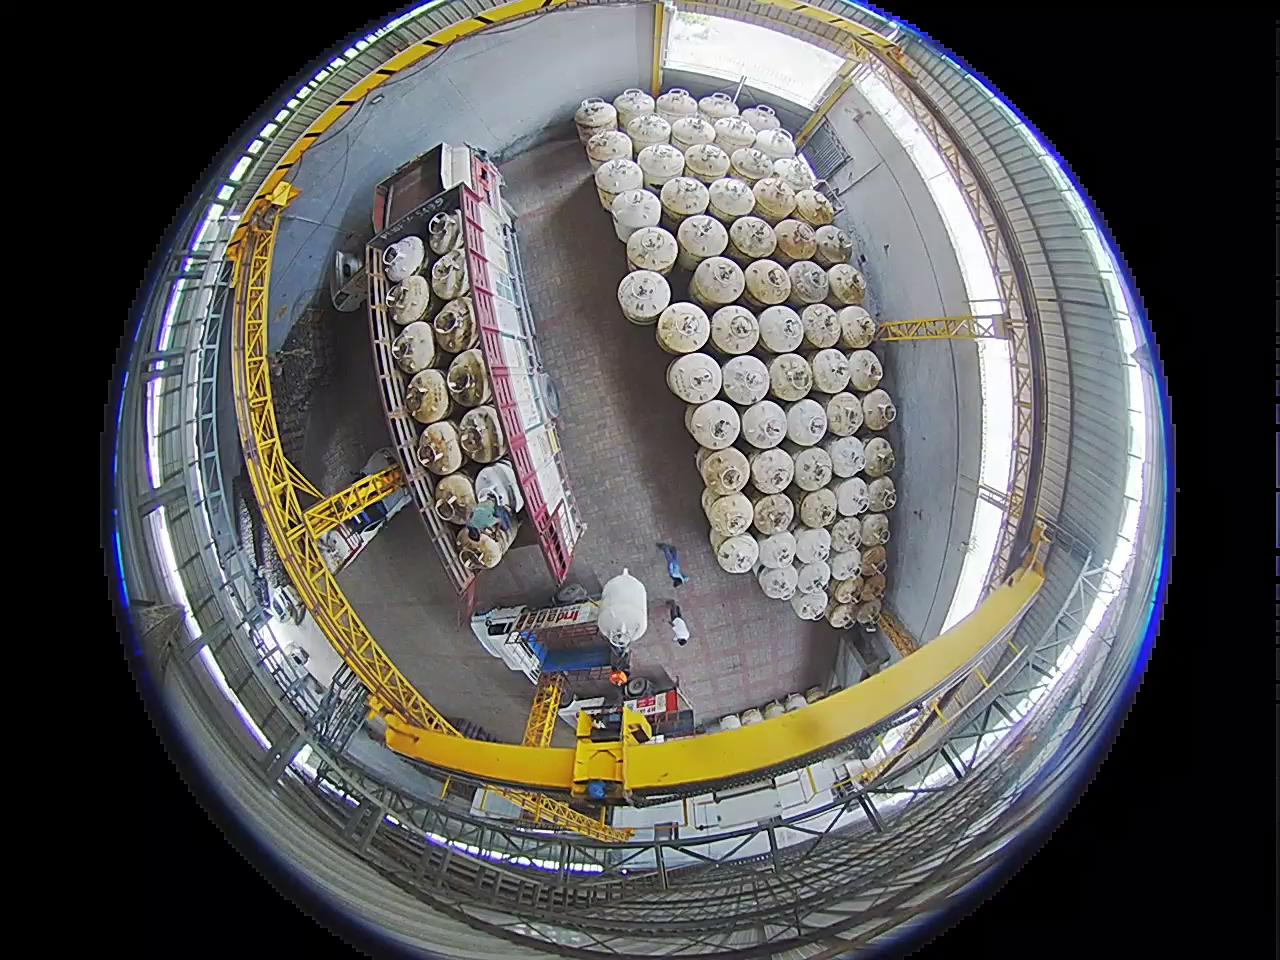cylinder: (598, 568, 647, 656), (626, 274, 678, 333), (666, 352, 722, 405), (656, 301, 710, 353), (687, 398, 741, 451), (463, 406, 501, 478), (710, 304, 762, 355), (691, 255, 745, 306), (719, 354, 770, 405), (404, 367, 452, 423), (677, 214, 729, 263), (612, 190, 660, 242), (416, 418, 464, 472), (741, 399, 790, 450), (698, 446, 750, 494), (433, 296, 478, 352), (757, 305, 806, 354), (391, 321, 436, 374), (385, 274, 430, 328), (626, 226, 675, 274), (744, 258, 794, 306), (595, 156, 644, 203), (659, 175, 710, 221), (749, 446, 796, 493), (707, 175, 756, 221), (585, 128, 632, 174), (573, 97, 618, 146), (429, 247, 471, 299), (767, 353, 813, 399), (729, 215, 777, 259), (637, 142, 685, 187), (432, 474, 477, 522), (785, 398, 829, 446), (707, 493, 754, 537), (383, 236, 426, 284), (773, 219, 819, 262), (751, 176, 797, 220), (790, 445, 834, 491), (810, 347, 853, 393), (669, 115, 717, 156), (625, 112, 672, 153), (787, 260, 830, 305), (799, 304, 842, 349), (752, 492, 795, 535), (837, 305, 878, 350), (824, 391, 865, 437), (826, 434, 867, 479), (683, 142, 731, 181), (826, 263, 868, 306), (655, 88, 698, 128), (814, 226, 855, 268), (793, 187, 836, 227), (798, 487, 839, 529), (717, 533, 760, 573), (731, 144, 775, 183), (612, 89, 653, 129), (833, 475, 872, 517), (848, 348, 885, 392), (713, 116, 757, 153), (792, 526, 833, 567), (757, 530, 798, 570), (861, 387, 898, 431), (428, 211, 465, 255), (771, 157, 813, 194), (753, 127, 796, 162), (453, 359, 484, 407), (696, 92, 739, 127), (862, 436, 897, 477), (757, 565, 797, 600), (790, 586, 828, 621), (740, 104, 781, 136), (795, 559, 830, 595), (472, 522, 498, 571), (829, 515, 863, 553), (865, 475, 897, 513), (828, 549, 862, 583), (860, 512, 891, 548), (827, 598, 861, 630), (830, 575, 863, 606), (684, 402, 710, 439), (860, 545, 888, 576), (858, 572, 886, 600), (856, 599, 883, 626), (785, 693, 808, 713), (741, 707, 763, 727), (765, 701, 787, 721), (719, 713, 742, 731), (805, 686, 826, 705)
truck: (365, 143, 584, 599), (306, 449, 411, 573), (475, 605, 615, 692), (552, 691, 706, 731), (325, 234, 367, 313), (282, 635, 310, 678)
